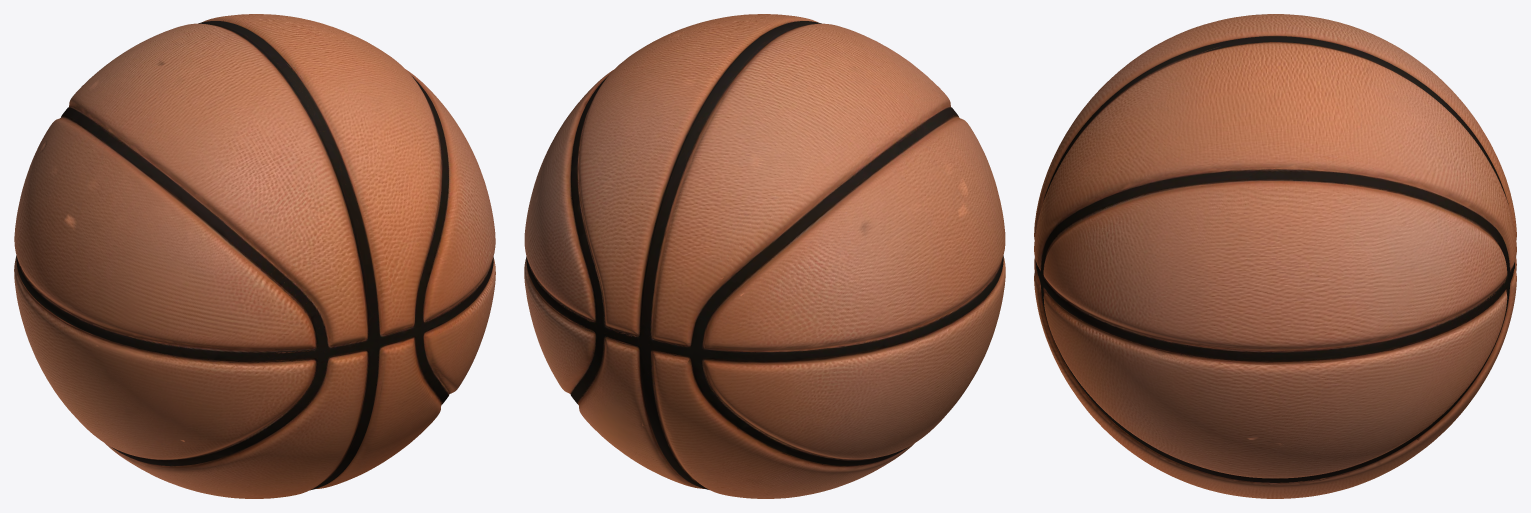
Rendered from palla_arancione_compressed.glb.
The picture shows the model from 3 angles, left to right: view 1: azimuth 30°, elevation 25°; view 2: azimuth 150°, elevation 25°; view 3: azimuth 270°, elevation 25°; orthographic projection.
Visible parts, largest first — view 1: node_0; view 2: node_0; view 3: node_0.
Boxes of the visible parts, x1=… form: node_0: x1=14, y1=14, x2=495, y2=498; node_0: x1=524, y1=14, x2=1005, y2=498; node_0: x1=1034, y1=14, x2=1516, y2=498.
Bounding box in the file's own units: 1.18 × 1.19 × 1.19.
1 material, 1 textured.
